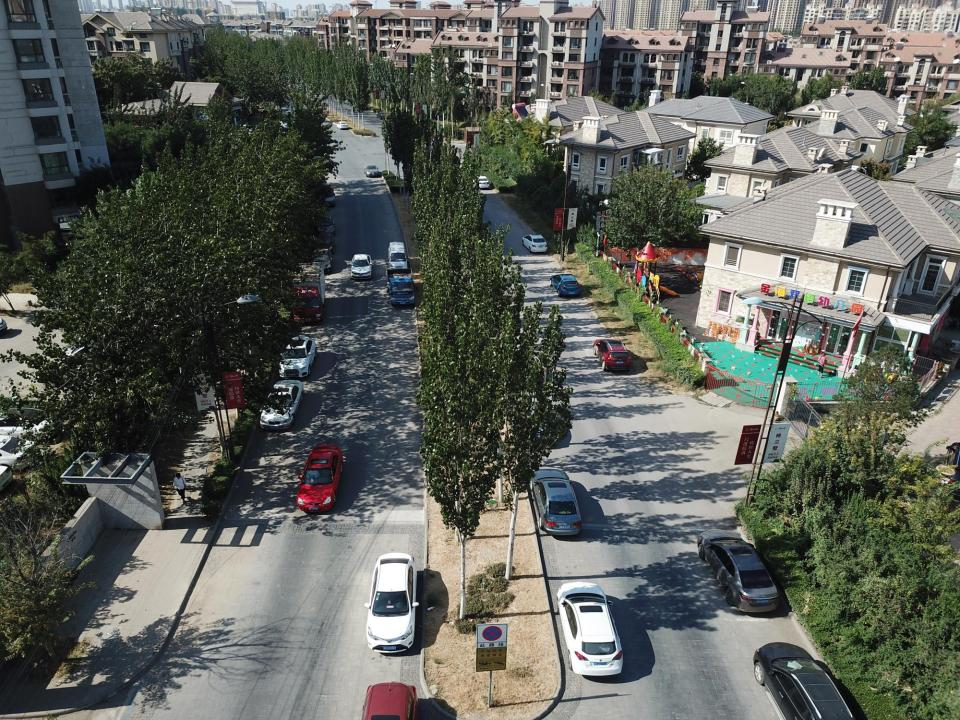car: (754, 642, 861, 719), (696, 529, 779, 615), (557, 582, 625, 678), (366, 553, 416, 654), (530, 468, 582, 537), (297, 444, 339, 511), (356, 680, 414, 718), (261, 378, 301, 428), (276, 334, 318, 379), (591, 338, 632, 369), (548, 273, 582, 297), (521, 232, 549, 255), (350, 253, 373, 281), (309, 248, 332, 268), (313, 231, 335, 250), (312, 184, 336, 201), (469, 174, 491, 190), (316, 216, 337, 231), (364, 163, 380, 177), (336, 121, 346, 129)
truck: (294, 266, 328, 326), (384, 273, 414, 304)
van: (388, 241, 408, 272)
